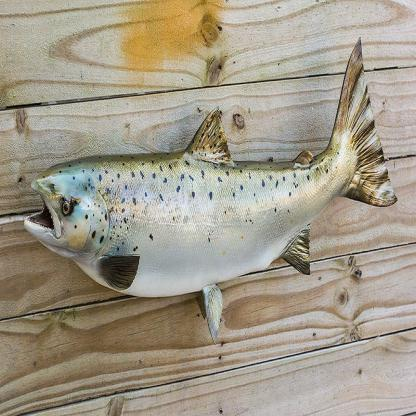fish: (23, 36, 398, 344)
